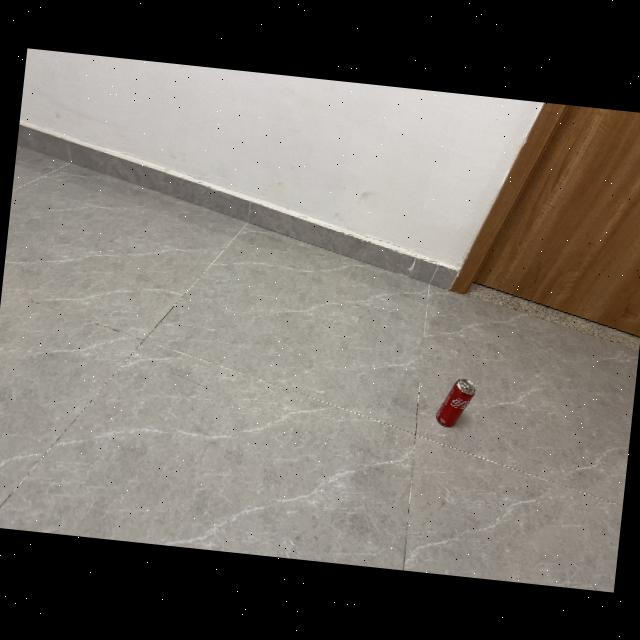Cola: (432, 372, 480, 434)
